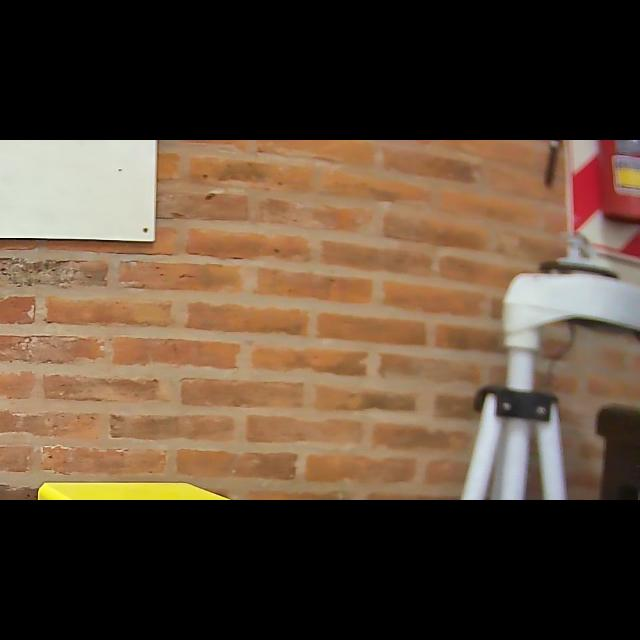greenBox: (0, 452, 6, 500)
yellowBox: (32, 474, 284, 500)
